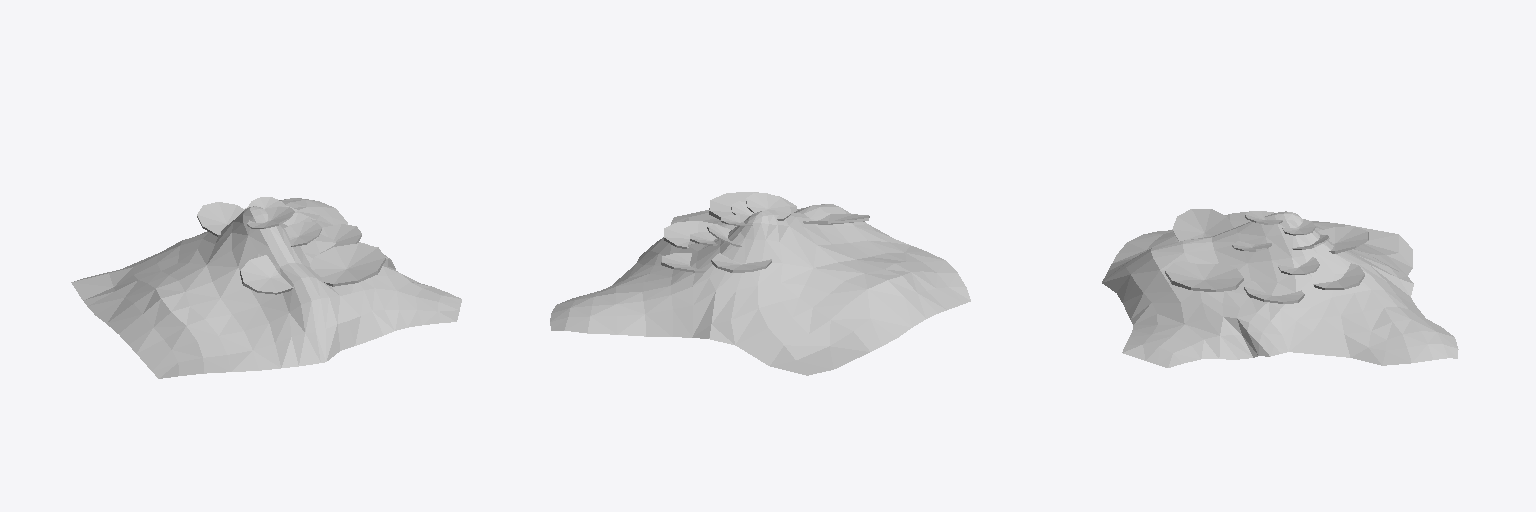
The model's file is Terrain  - coral reef ( 1 ).OBJ.
3 views of the same model, side by side, from view 1: azimuth 30°, elevation 25°; view 2: azimuth 150°, elevation 25°; view 3: azimuth 270°, elevation 25° (orthographic).
Parts seen in each view (by area): view 1: pCylinder11; view 2: pCylinder11; view 3: pCylinder11.
Boxes of the visible parts, x1=… form: pCylinder11: x1=71, y1=197, x2=461, y2=378; pCylinder11: x1=550, y1=192, x2=970, y2=375; pCylinder11: x1=1102, y1=209, x2=1458, y2=367.
Bounding box in the file's own units: 15.86 × 4.79 × 16.31.